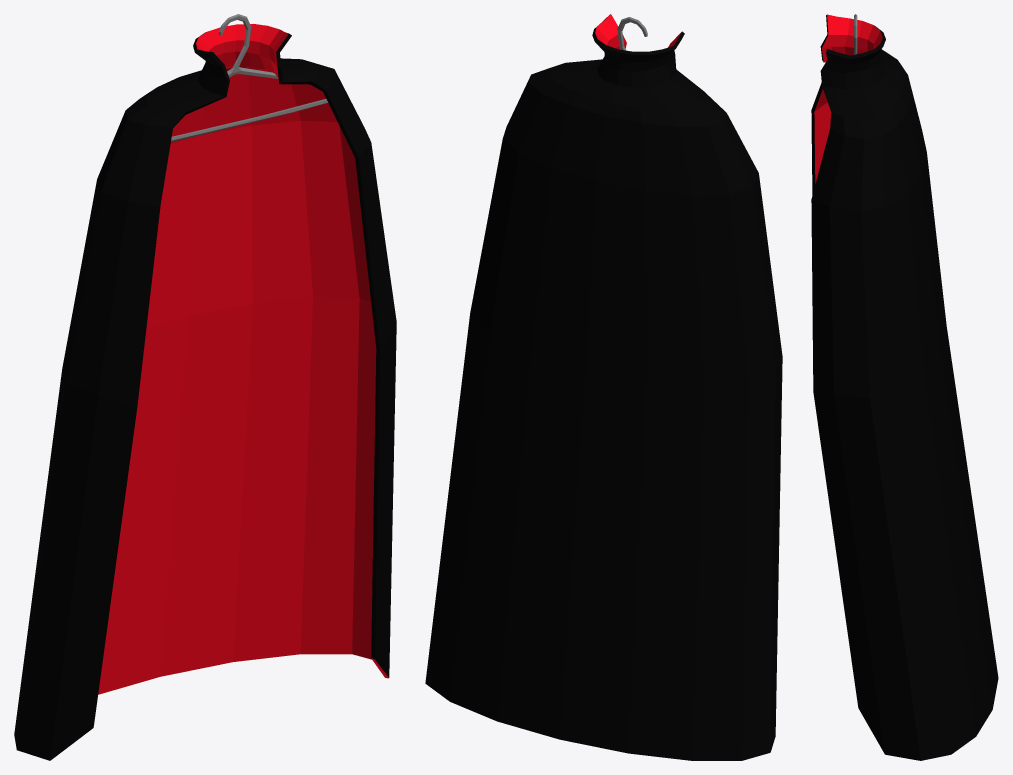
File: Capa.fbx
The picture shows the model from 3 angles, left to right: view 1: azimuth 30°, elevation 25°; view 2: azimuth 150°, elevation 25°; view 3: azimuth 270°, elevation 25°; orthographic projection. The views are drawn at different scales.
Visible parts, largest first — view 1: Capa; view 2: Capa; view 3: Capa.
Part boxes in pixels (<box>): Capa: <box>14,14,396,760</box>; Capa: <box>425,14,782,760</box>; Capa: <box>811,14,998,760</box>.
Bounding box in the file's own units: 72.69 × 136 × 34.72.
1 material, 1 textured.
